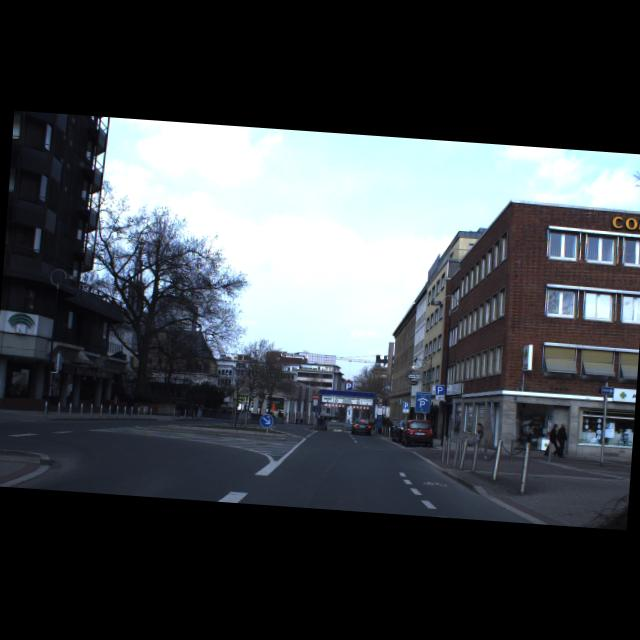mandatory: (258, 413, 274, 428)
